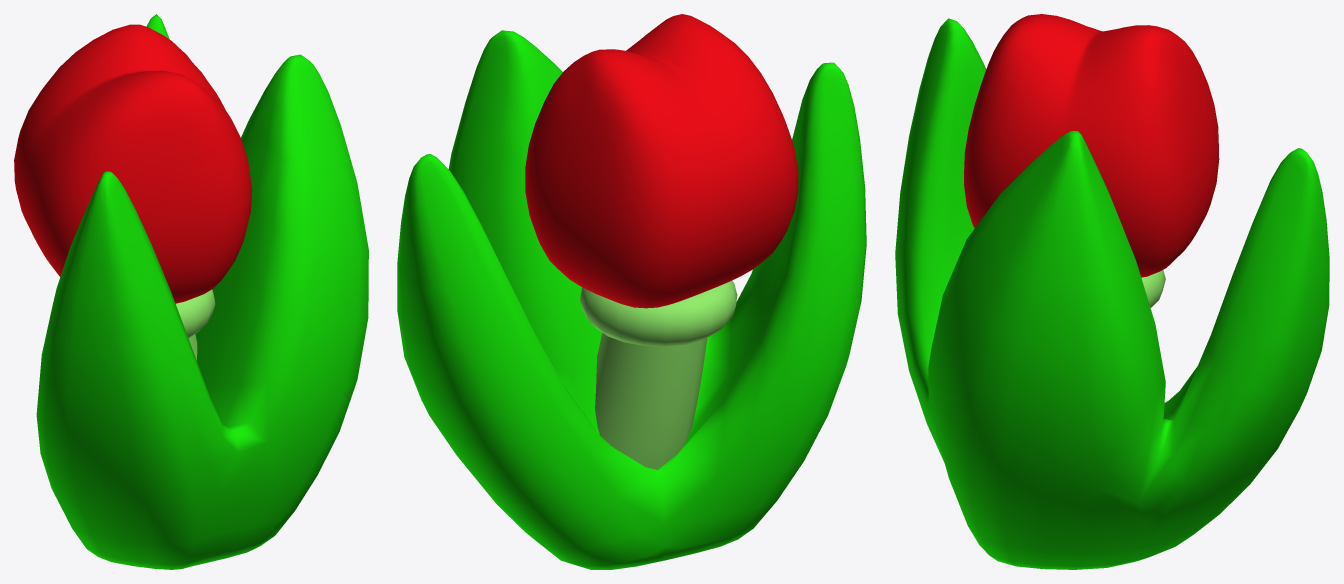
File: FlowerXS.fbx
The picture shows the model from 3 angles, left to right: view 1: azimuth 30°, elevation 25°; view 2: azimuth 150°, elevation 25°; view 3: azimuth 270°, elevation 25°; orthographic projection. The views are drawn at different scales.
Visible parts, largest first — view 1: fbxFlower_SubDiv; view 2: fbxFlower_SubDiv; view 3: fbxFlower_SubDiv.
Boxes of the visible parts, box(x1,y1,x2,y2) form: fbxFlower_SubDiv: box(14, 14, 368, 569); fbxFlower_SubDiv: box(397, 14, 866, 569); fbxFlower_SubDiv: box(895, 14, 1329, 569).
Bounding box in the file's own units: 596 × 810 × 627.
